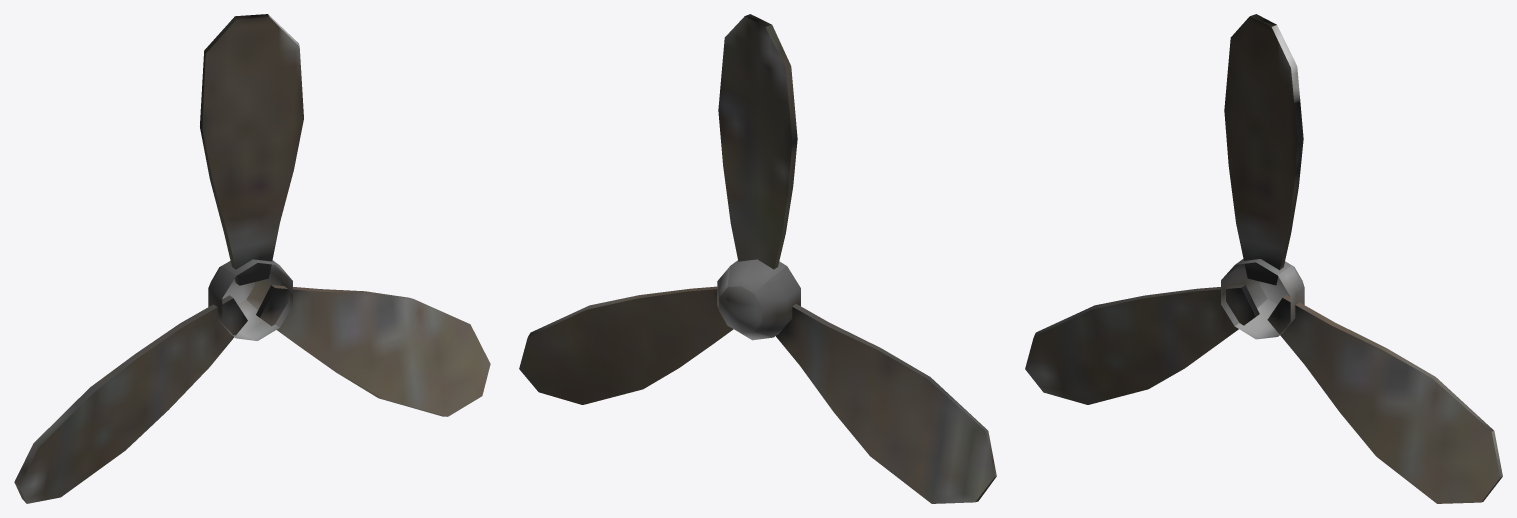
The model's file is AspaDirigible.obj.
The picture shows the model from 3 angles, left to right: view 1: azimuth 30°, elevation 25°; view 2: azimuth 150°, elevation 25°; view 3: azimuth 330°, elevation 25°; orthographic projection.
Visible parts, largest first — view 1: aspaDer_wire_028149177, aspaDer_wire_057008136; view 2: aspaDer_wire_028149177, aspaDer_wire_057008136; view 3: aspaDer_wire_028149177, aspaDer_wire_057008136.
Part boxes in pixels (bbox=[...]): aspaDer_wire_028149177: bbox=[14, 14, 490, 503]; aspaDer_wire_057008136: bbox=[208, 259, 292, 340]; aspaDer_wire_028149177: bbox=[519, 14, 996, 503]; aspaDer_wire_057008136: bbox=[717, 259, 800, 340]; aspaDer_wire_028149177: bbox=[1025, 14, 1502, 503]; aspaDer_wire_057008136: bbox=[1221, 259, 1304, 339].
Bounding box in the file's own units: 1.38 × 1.21 × 0.164.
